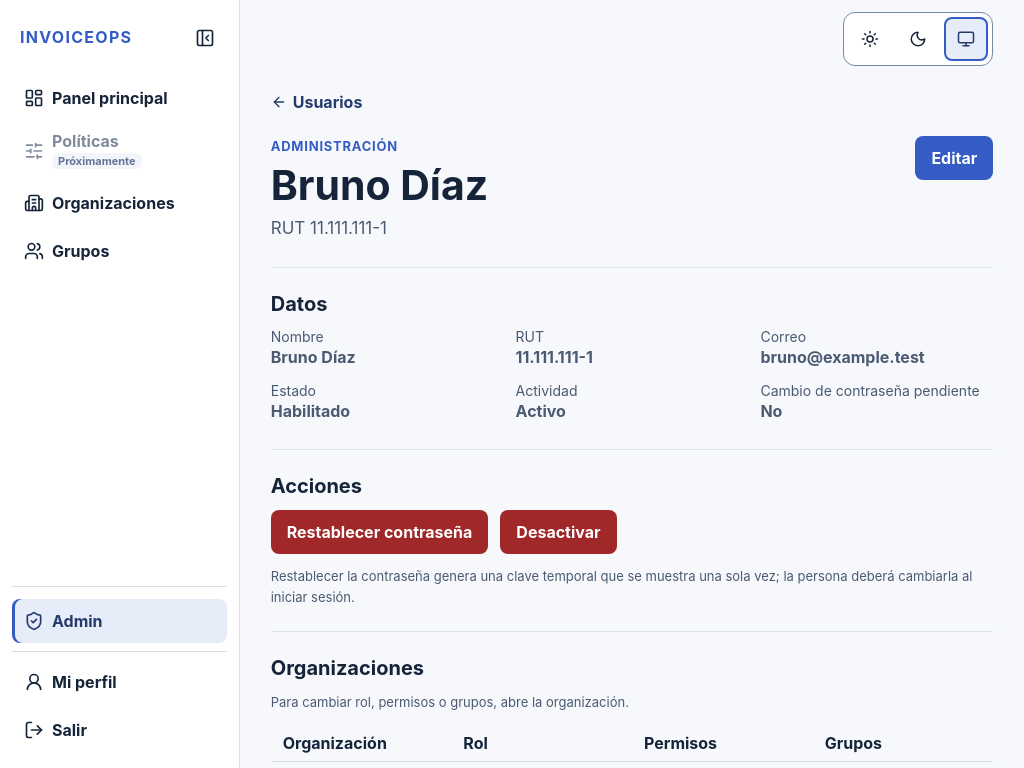
Scenario: admin user profile (AC-13) › reports a duplicate RUT next to the field and keeps the dialog open
Expected: the heading "Bruno Díaz" is shown, [271, 160, 488, 210]
Click the button "Editar": (954, 158) [915, 136, 993, 180]
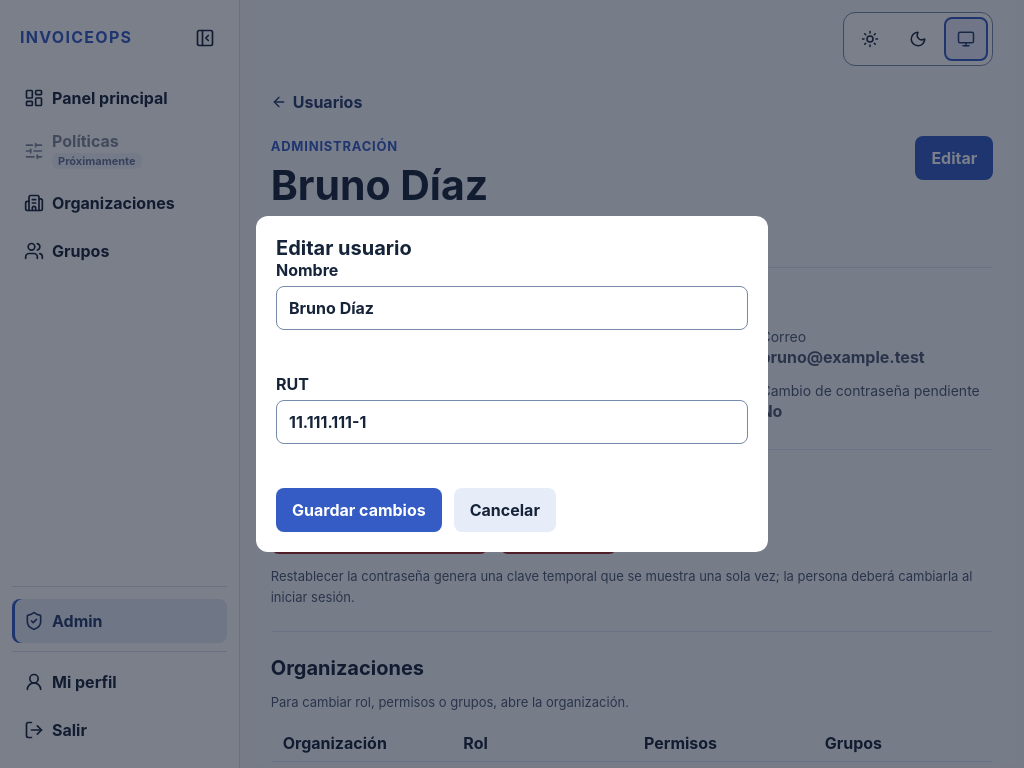
Replace the text in the field labelled "RUT" with "19.034.790-7": (512, 422) [276, 400, 748, 444]
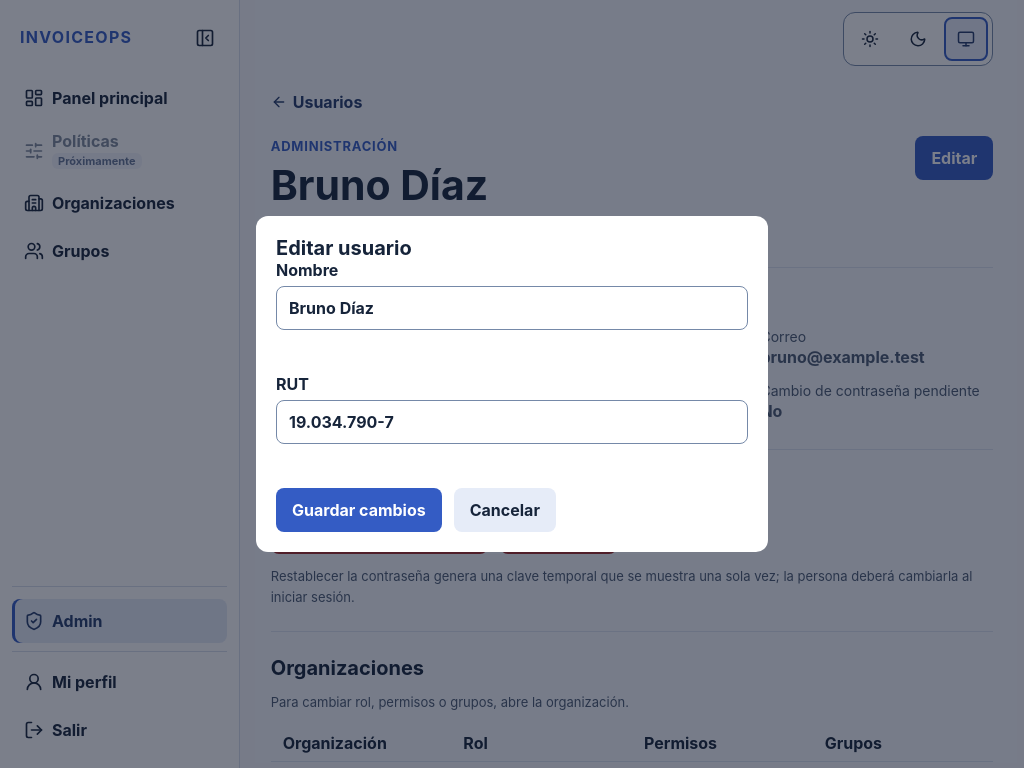
Click the button "Guardar cambios": (359, 510) [276, 488, 442, 532]
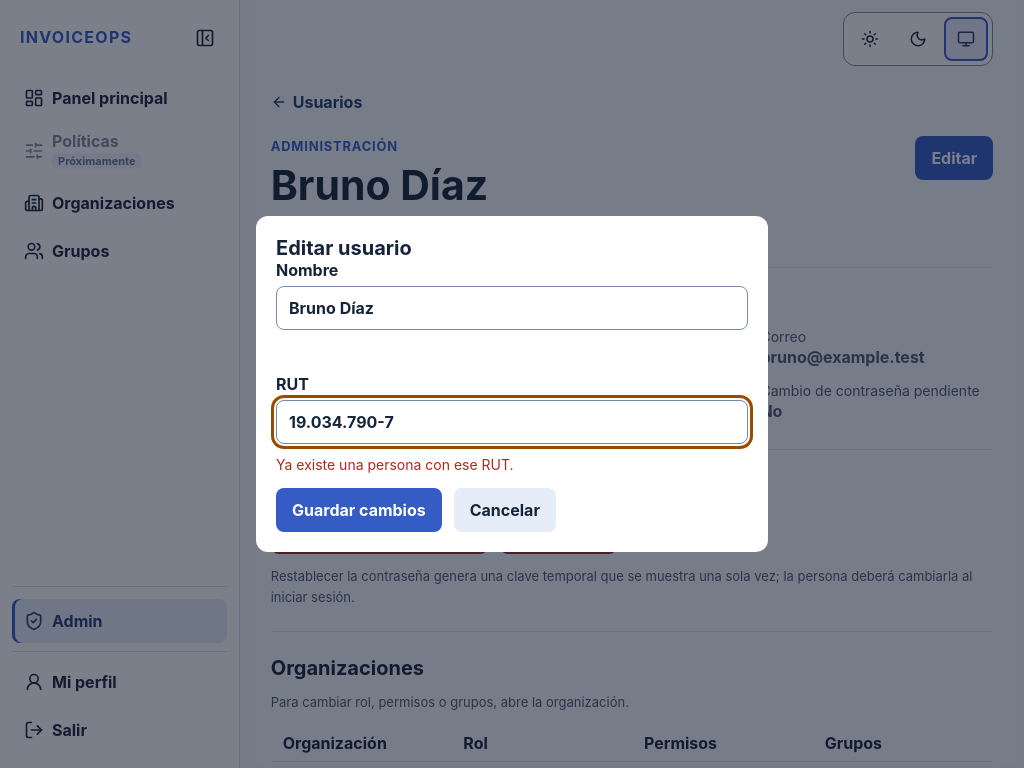
Note: Editing the RUT again clears the stale server message.
Replace the text in the field labelled "RUT" with "12.345.678-5": (512, 422) [276, 400, 748, 444]
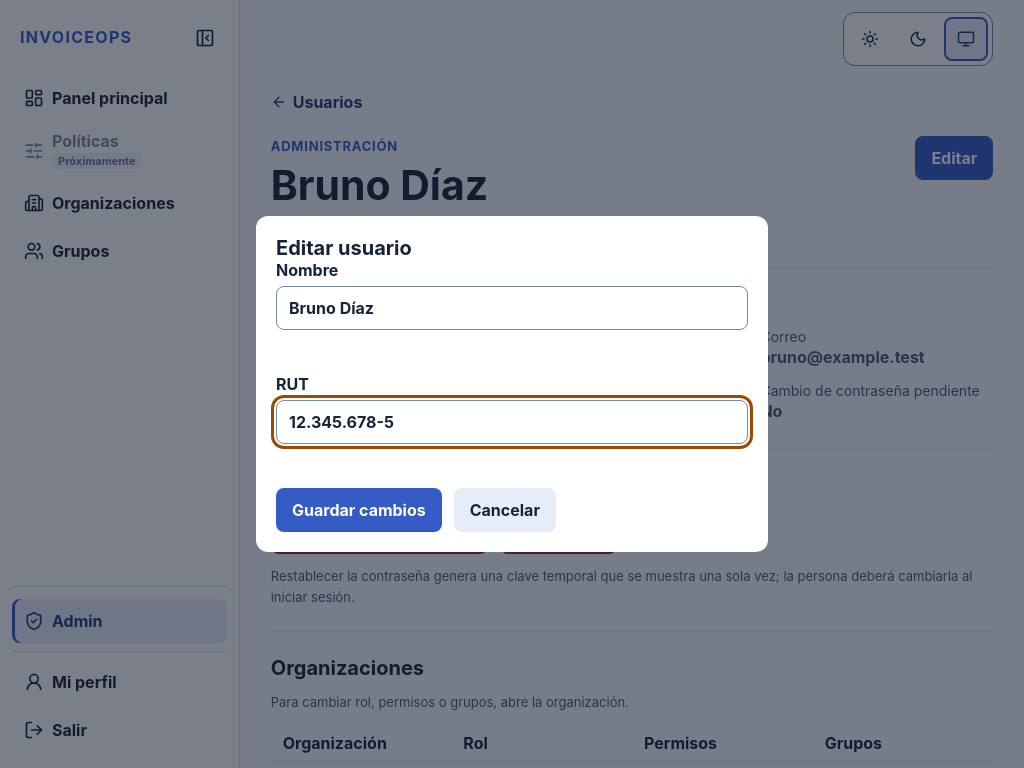
Result: the text "Ya existe una persona con ese RUT." is gone
